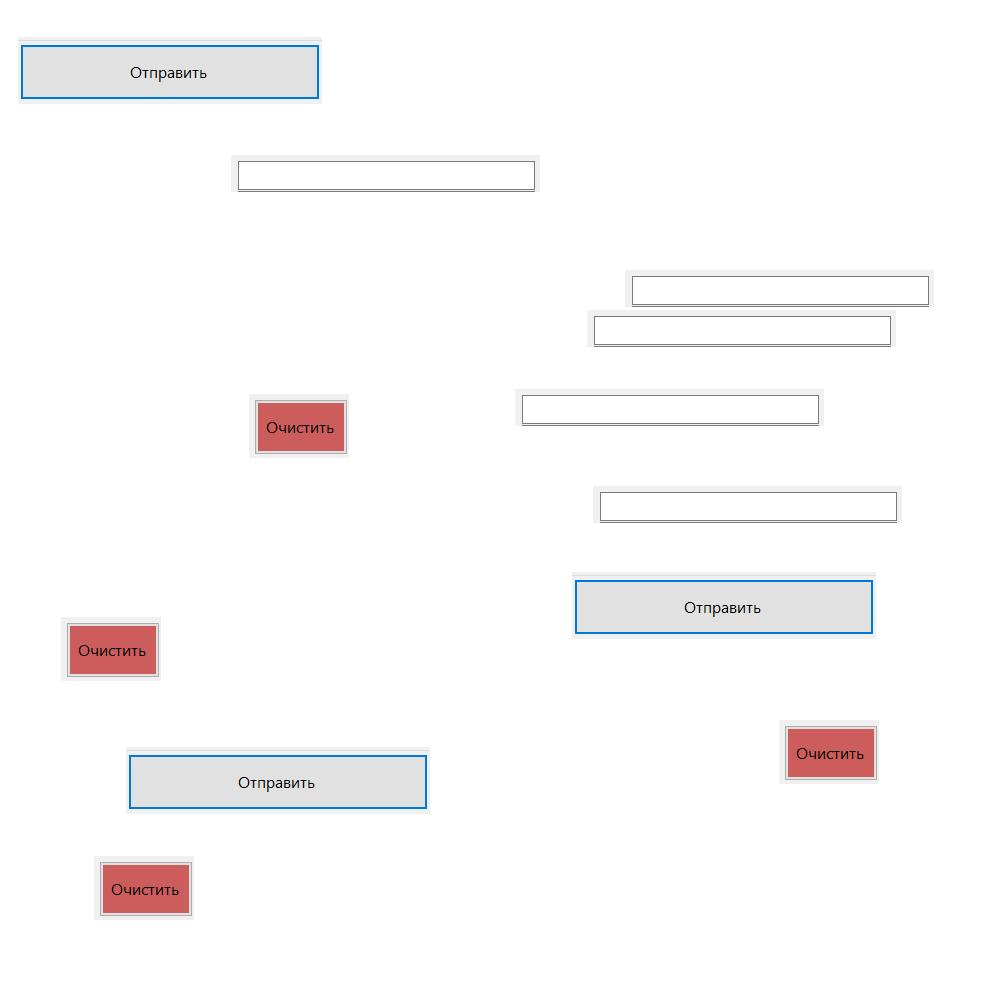Button: (572, 572, 876, 639), (18, 37, 322, 104), (126, 747, 430, 814), (94, 856, 194, 920), (779, 720, 879, 784), (61, 617, 161, 681), (249, 394, 349, 458)
EditText-: (515, 389, 824, 426), (587, 310, 896, 347), (231, 155, 540, 192), (625, 270, 934, 307), (593, 486, 902, 523)
